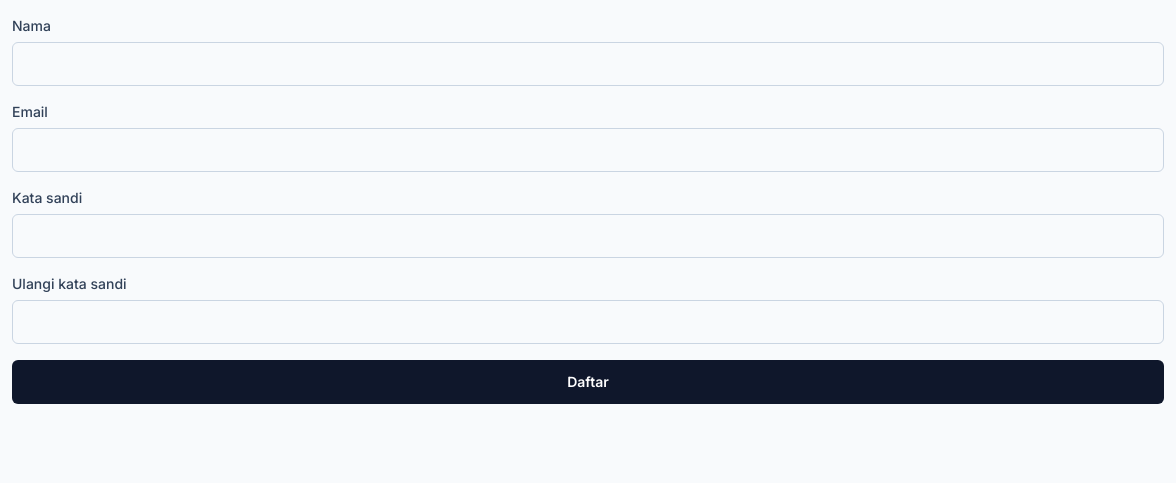
Test case: SignupForm (FR-001a) › does not submit when password confirmation does not match
This screenshot has width=1176, height=483.
In the field labelled "Nama": (588, 64) [12,42,1164,86], type "Nama User"
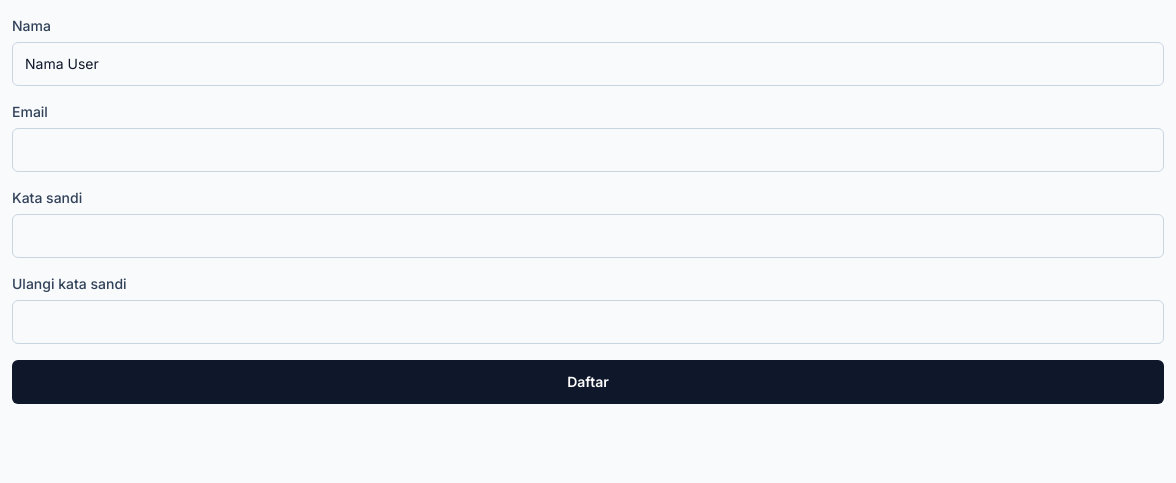
In the field labelled "Email": (588, 150) [12,128,1164,172], type "user@example.com"
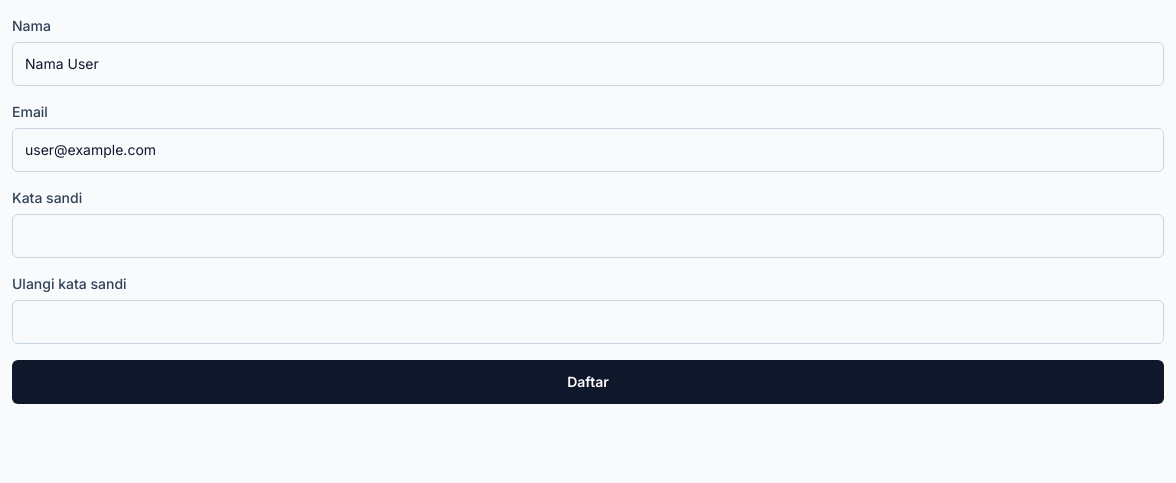
In the password field labelled "Kata sandi": (588, 236) [12,214,1164,258], type "password-123"
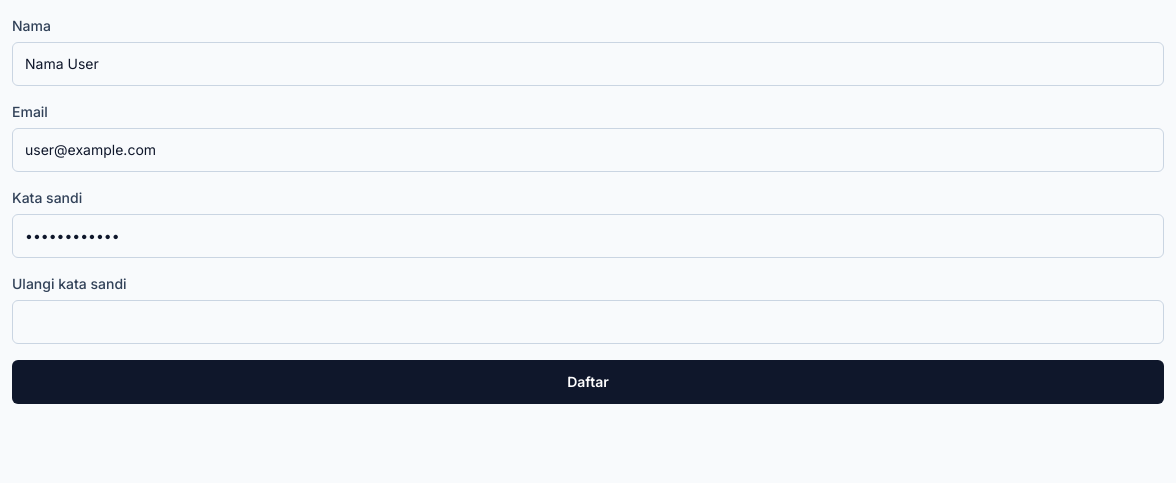
In the password field labelled "Ulangi kata sandi": (588, 322) [12,300,1164,344], type "different-123"
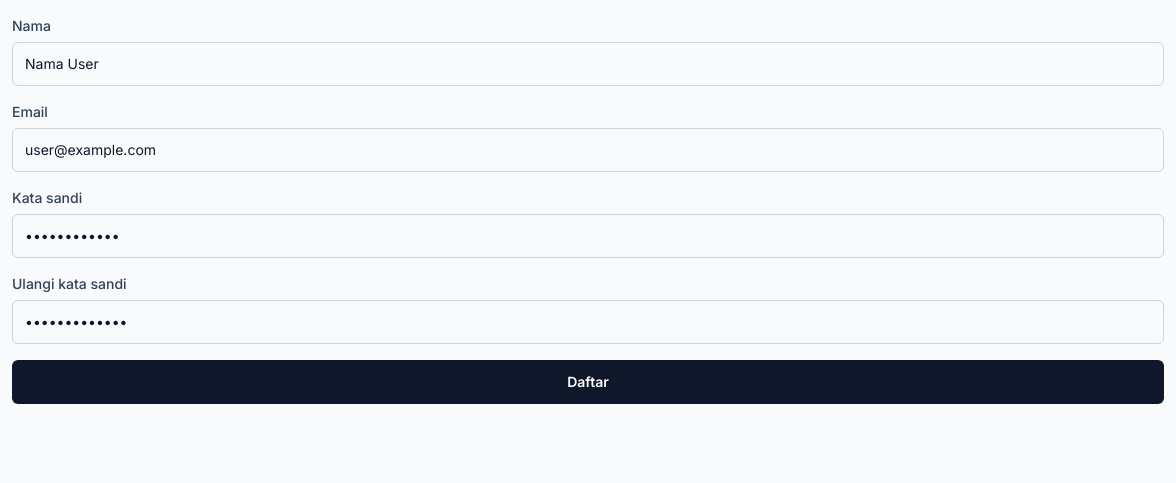
Click the button "Daftar": (588, 382) [12,360,1164,404]
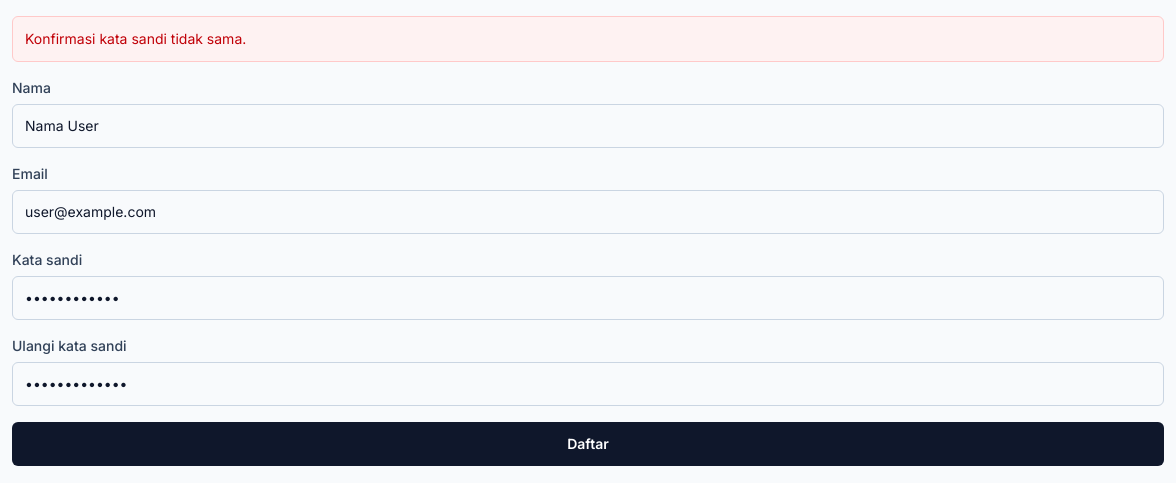
Result: the message shows "tidak sama" at [25,30,246,47]
